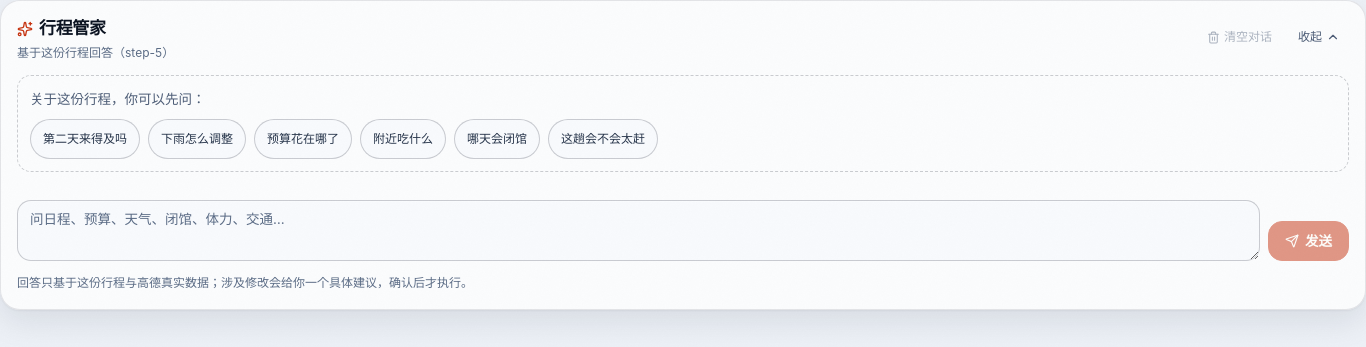
PlanCopilot › 网络异常：展示「网络异常，请重试」而不是静默失败
The width and height of the screenshot is (1366, 347).
Type "第二天来得及吗" into the text box named "向行程管家提问".
click(638, 231); type("第二天来得及吗")  # box [17,200,1260,261]
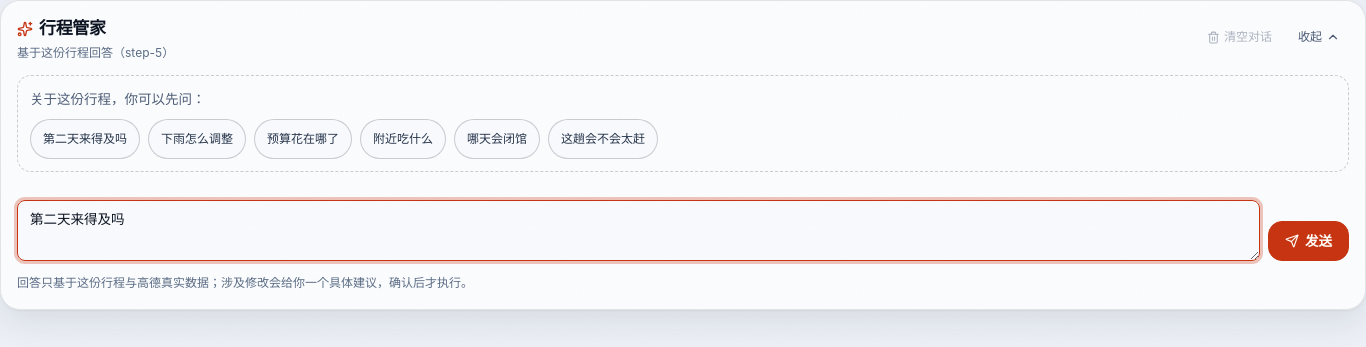
Click the button "发送".
click(1308, 241)  # box [1268,221,1349,261]
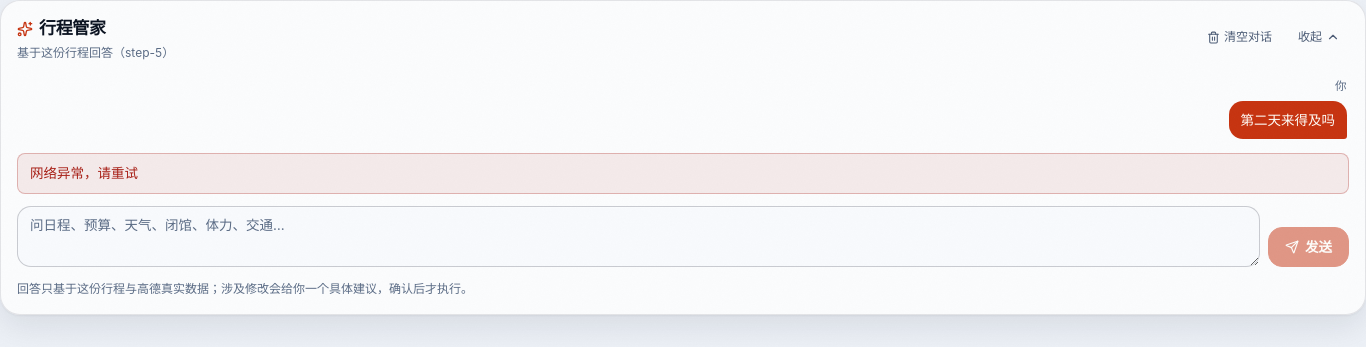
Expected: the text "网络异常，请重试" is shown, [17,153,1349,194]
